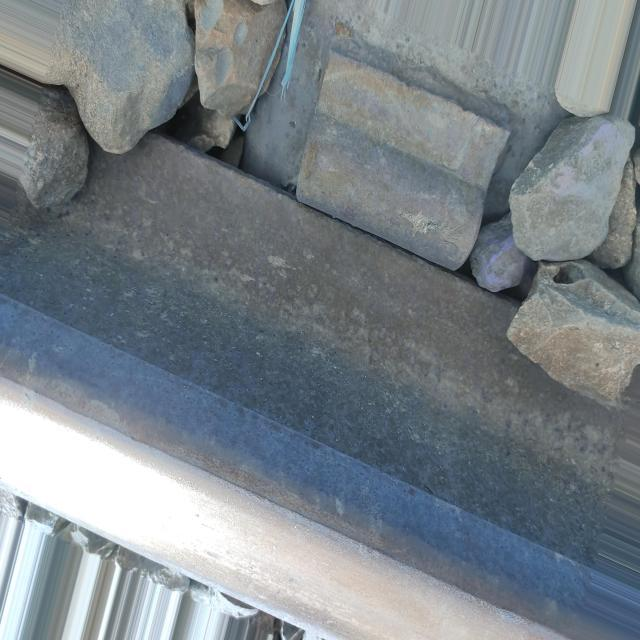Missing Fastener: (224, 29, 528, 309)
